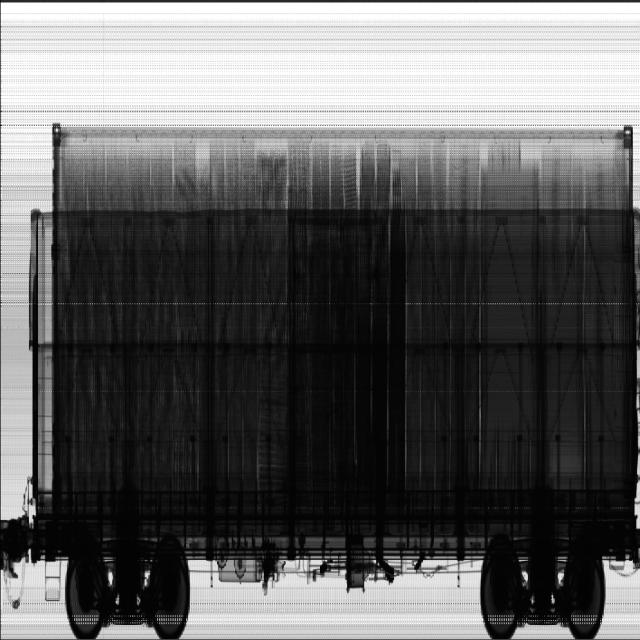lamps: (404, 161, 632, 502), (260, 354, 289, 503)
